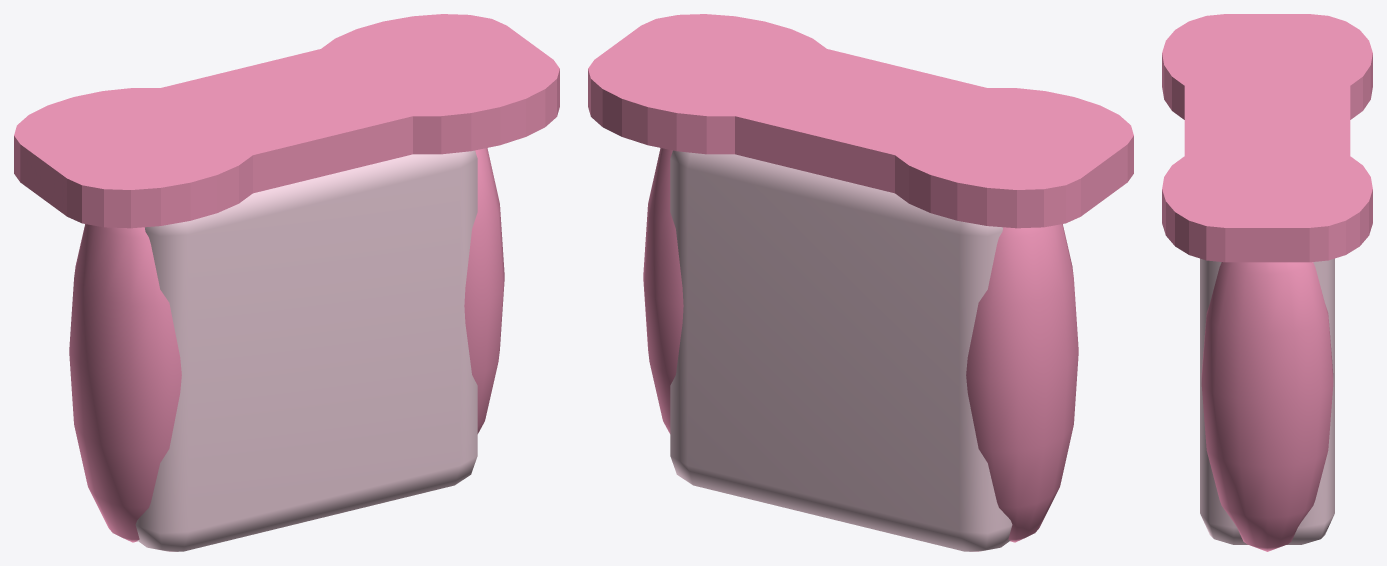
Rendered from counter_bone.glb.
3 renders of one model, left to right at view 1: azimuth 30°, elevation 25°; view 2: azimuth 150°, elevation 25°; view 3: azimuth 270°, elevation 25°, orthographic. The views are drawn at different scales.
Parts seen in each view (by area): view 1: Body; view 2: Body; view 3: Body.
Boxes of the visible parts, <box> form: Body: <box>14,14,559,551</box>; Body: <box>588,14,1133,551</box>; Body: <box>1162,14,1372,551</box>.
Size of the model in its own units: 1.2 by 0.95 by 0.4997.
2 materials, 2 textured.
